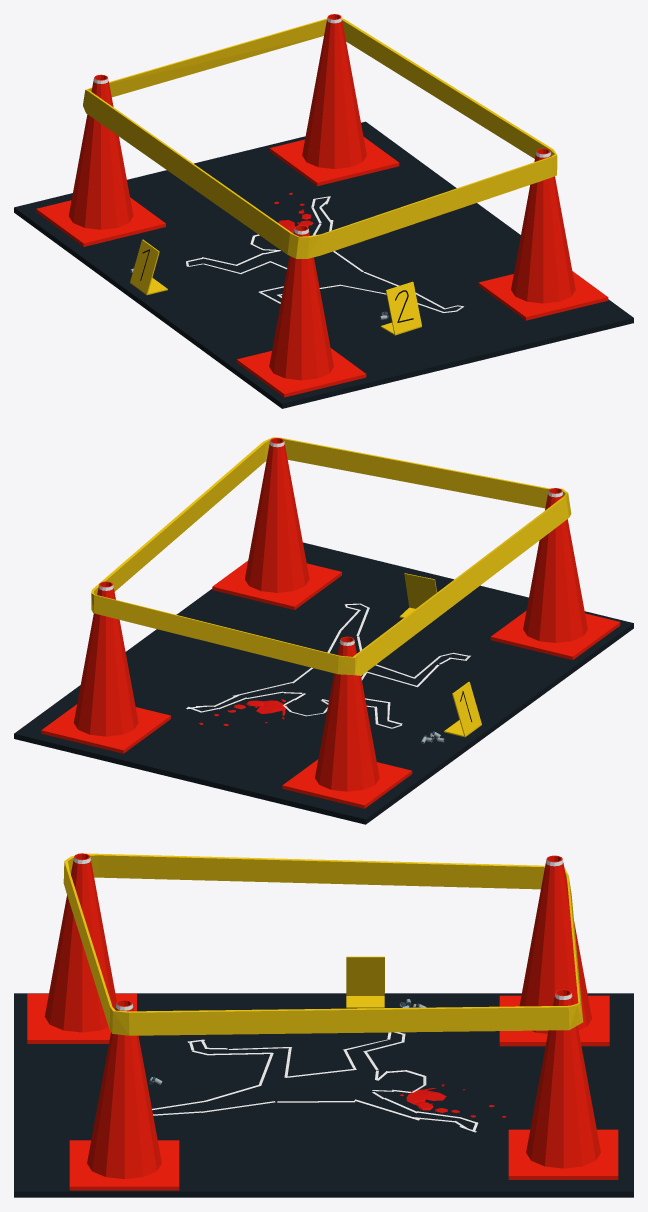
File: CrimeScene.fbx
The picture shows the model from 3 angles, top to bottom: view 1: azimuth 30°, elevation 25°; view 2: azimuth 150°, elevation 25°; view 3: azimuth 270°, elevation 25°; orthographic projection. The views are drawn at different scales.
Visible parts, largest first — view 1: Node-Mesh-6, Node-Mesh-2, Node-Mesh-3, Node-Mesh-1; view 2: Node-Mesh-6, Node-Mesh-2, Node-Mesh-3, Node-Mesh-1, Node-Mesh-0; view 3: Node-Mesh-6, Node-Mesh-2, Node-Mesh-3, Node-Mesh-1, Node-Mesh-0.
Part boxes in pixels (bbox=[...]): Node-Mesh-6: bbox=[14, 121, 633, 408]; Node-Mesh-2: bbox=[36, 14, 608, 397]; Node-Mesh-3: bbox=[83, 18, 557, 335]; Node-Mesh-1: bbox=[93, 17, 550, 312]; Node-Mesh-6: bbox=[14, 542, 633, 824]; Node-Mesh-2: bbox=[41, 438, 620, 808]; Node-Mesh-3: bbox=[91, 437, 571, 737]; Node-Mesh-1: bbox=[98, 441, 562, 728]; Node-Mesh-0: bbox=[199, 699, 287, 725]; Node-Mesh-6: bbox=[14, 993, 633, 1197]; Node-Mesh-2: bbox=[27, 853, 618, 1190]; Node-Mesh-3: bbox=[63, 853, 583, 1035]; Node-Mesh-1: bbox=[73, 857, 572, 1132]; Node-Mesh-0: bbox=[400, 1084, 506, 1117].
Size of the model in its own units: 6.33 by 2.53 by 8.36.
